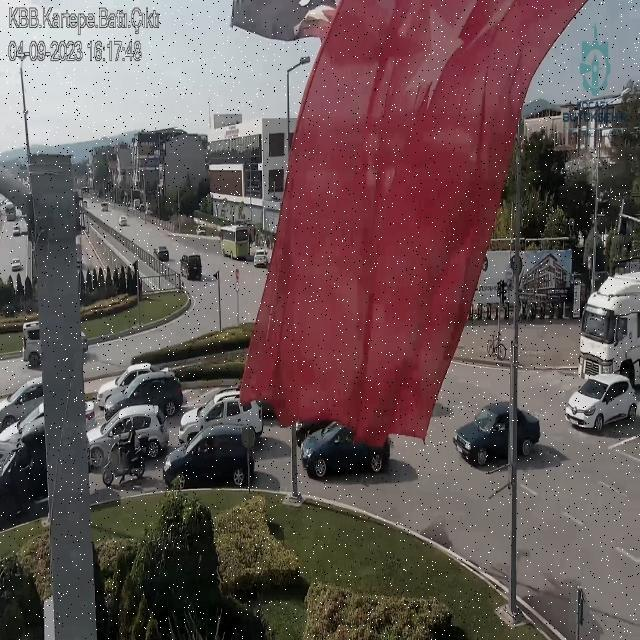Bus: (216, 223, 250, 261)
Car: (160, 423, 254, 488), (299, 417, 390, 480), (451, 403, 540, 467), (87, 403, 169, 469), (179, 387, 264, 446), (104, 366, 188, 425), (568, 373, 640, 432), (98, 364, 170, 407), (1, 376, 44, 428), (252, 249, 270, 268), (153, 244, 171, 262), (10, 259, 23, 271), (118, 214, 128, 227)
Cycle: (100, 432, 150, 487), (487, 332, 510, 361)
Truck: (577, 267, 640, 390)
Van: (19, 318, 92, 367), (179, 253, 203, 281)
